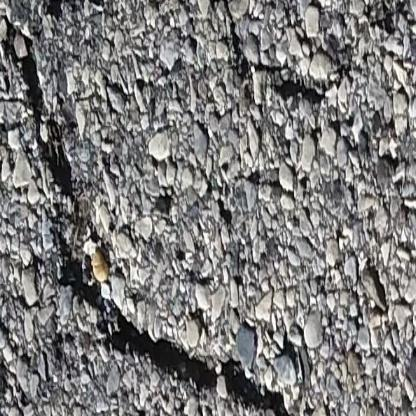Cracks: (0, 0, 120, 416), (36, 0, 416, 93), (113, 294, 306, 416)
